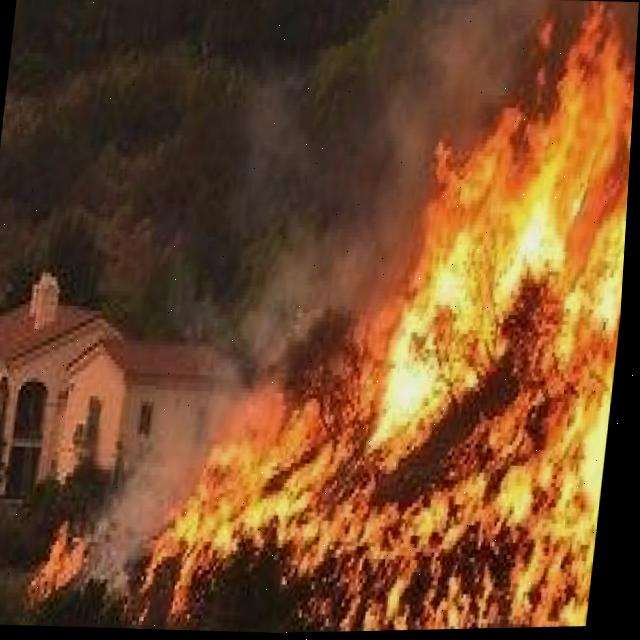fire: (154, 29, 638, 632)
smoke: (94, 0, 612, 579)
